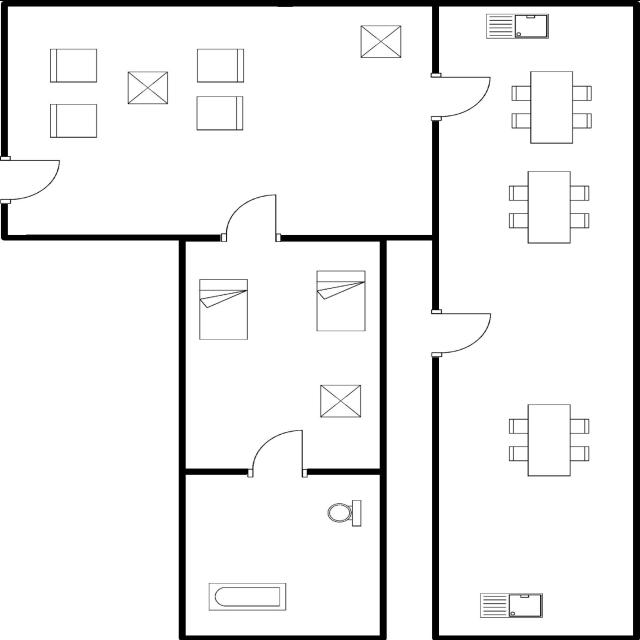bed: (194, 274, 252, 344), (311, 266, 369, 336)
coffee_table: (122, 67, 172, 107), (356, 20, 406, 60), (316, 380, 364, 420)
dining_table: (502, 166, 594, 250), (506, 66, 598, 148), (504, 400, 594, 480)
large_sink: (322, 496, 367, 530)
sink: (481, 9, 554, 42), (475, 588, 548, 620)
small_sofa: (43, 43, 103, 86), (193, 91, 249, 133), (193, 44, 249, 86), (44, 101, 100, 140)
tub: (204, 577, 290, 614)
